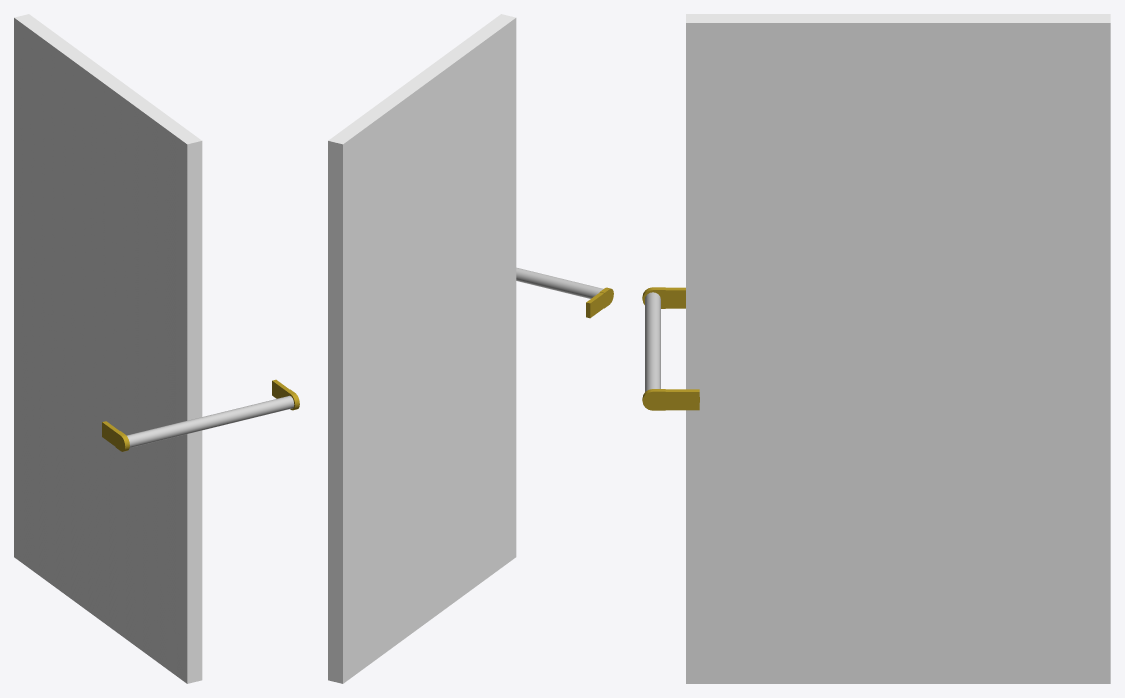
Rendered from Cabinet_2627297f.obj.
3 views of the same model, side by side, from view 1: azimuth 30°, elevation 25°; view 2: azimuth 150°, elevation 25°; view 3: azimuth 270°, elevation 25° (orthographic). The views are drawn at different scales.
Parts seen in each view (by area): view 1: FP413:polySurface110_610ed6ed, handle_2_178mm_01_26a27acd; view 2: FP413:polySurface110_610ed6ed, handle_2_178mm_01_26a27acd; view 3: FP413:polySurface110_610ed6ed, handle_2_178mm_01_26a27acd.
Boxes of the visible parts, x1,y1,x2,y2 form: FP413:polySurface110_610ed6ed: (14,14,202,683); handle_2_178mm_01_26a27acd: (102,379,299,451); FP413:polySurface110_610ed6ed: (328,14,516,683); handle_2_178mm_01_26a27acd: (516,267,613,318); FP413:polySurface110_610ed6ed: (686,14,1110,683); handle_2_178mm_01_26a27acd: (642,287,699,410).
Size of the model in its own units: 0.178 by 0.5253 by 0.337.
